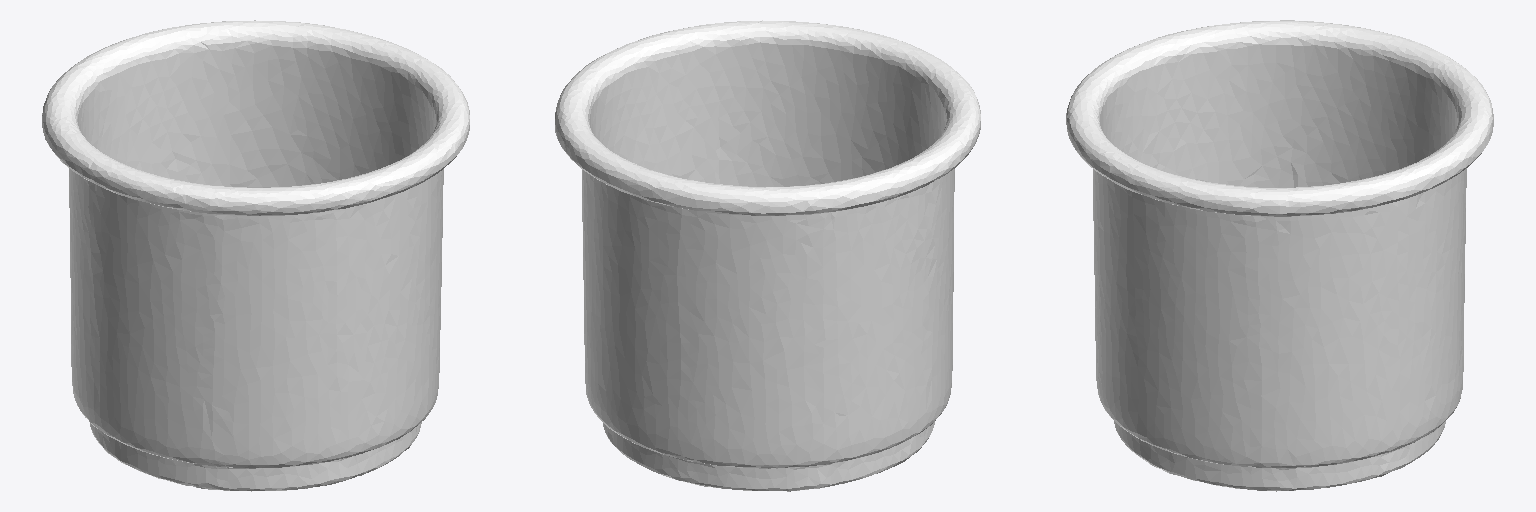
robot.urdf — 021_bleach_cleanser:
<robot name="021_bleach_cleanser">
	<link name="_name">
		<visual>
			<origin xyz="0.17138949272641096 -0.11574369859748879 -0.9969796254743377" rpy="0 0 0" />
			<geometry>
				<mesh filename="021_bleach_cleanser/google_16k/textured.obj" scale="10 10 10" />
			</geometry>
			<material name="texture">
				<color rgba="1.0 1.0 1.0 1.0" />
			</material>
		</visual>
		<collision>
			<geometry>
				<mesh filename="021_bleach_cleanser/google_16k/textured_vhacd.obj" scale="10 10 10" />
			</geometry>
		<origin xyz="0.17138949272641096 -0.11574369859748879 -0.9969796254743377" rpy="0 0 0" /></collision>
		<inertial>
			<mass value="1.0" />
			<inertia ixx="1.0" ixy="0.0" ixz="0.0" iyy="1.0" iyz="0.0" izz="1.0" />
		</inertial>
	</link>
</robot>

--- What the picture shows (computed from the rendered views, not written in the file) ---
The picture shows the robot from 3 angles, left to right: view 1: azimuth 30°, elevation 25°; view 2: azimuth 150°, elevation 25°; view 3: azimuth 270°, elevation 25°; orthographic projection.
Robot: 021_bleach_cleanser — 1 links, 0 joints (none); root link _name; default pose: all joints at 0.
Links seen in each view (by area): view 1: _name; view 2: _name; view 3: _name.
Boxes of the visible links, bbox=[...] form: _name: bbox=[42, 20, 469, 491]; _name: bbox=[555, 20, 980, 491]; _name: bbox=[1066, 20, 1493, 491].
Bounding box of the posed robot: 0.915 × 0.9162 × 0.7506 m (x, y, z).
1 mesh visuals loaded from 1 distinct referenced files (1 OBJ).